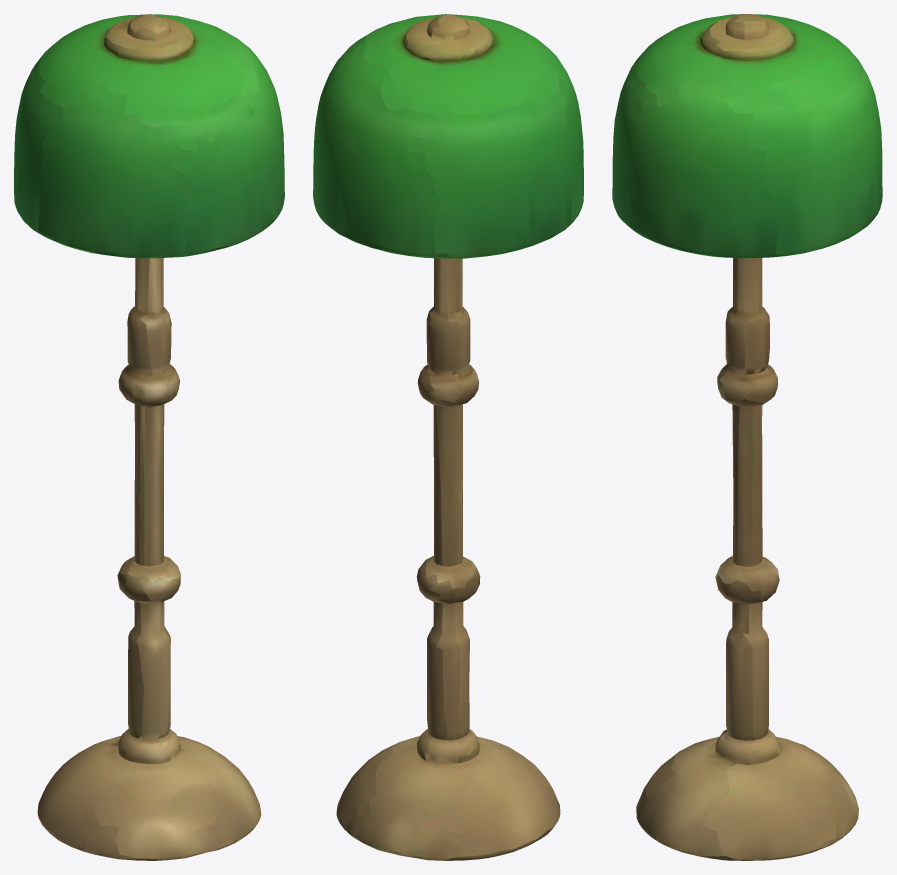
Rendered from x-lamp.glb.
3 views of the same model, side by side, from view 1: azimuth 30°, elevation 25°; view 2: azimuth 150°, elevation 25°; view 3: azimuth 270°, elevation 25° (orthographic).
Visible parts, largest first — view 1: geometry_0; view 2: geometry_0; view 3: geometry_0.
Boxes of the visible parts, <box> form: geometry_0: <box>14,14,284,860</box>; geometry_0: <box>313,14,583,860</box>; geometry_0: <box>612,14,882,860</box>.
Bounding box in the file's own units: 0.4926 × 1.6 × 0.4909.
Materials: 1 (1 with a texture image).
